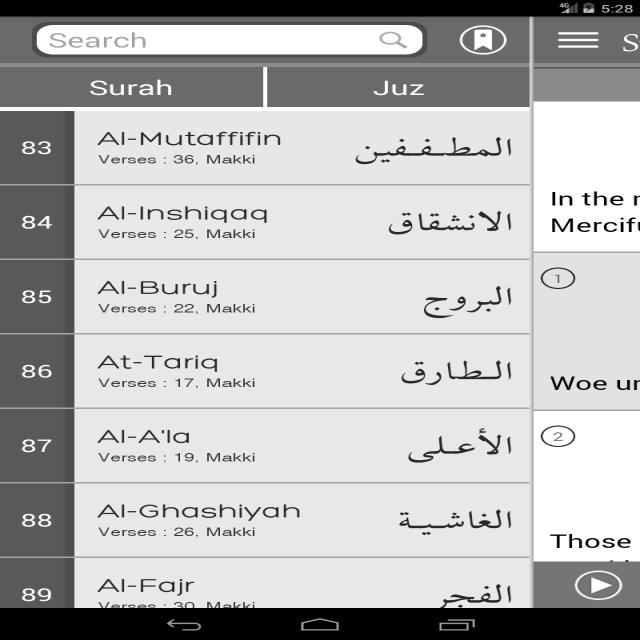EditText: (31, 20, 430, 60)
ImageButton: (450, 22, 512, 58), (546, 26, 608, 58)
TextView: (91, 496, 311, 540), (93, 202, 292, 248), (341, 130, 528, 170), (90, 348, 262, 391), (384, 417, 519, 467), (538, 187, 636, 235), (408, 283, 519, 321), (425, 576, 521, 606), (94, 572, 214, 595), (543, 364, 627, 396), (82, 74, 190, 98), (363, 74, 438, 102), (9, 434, 64, 461)
